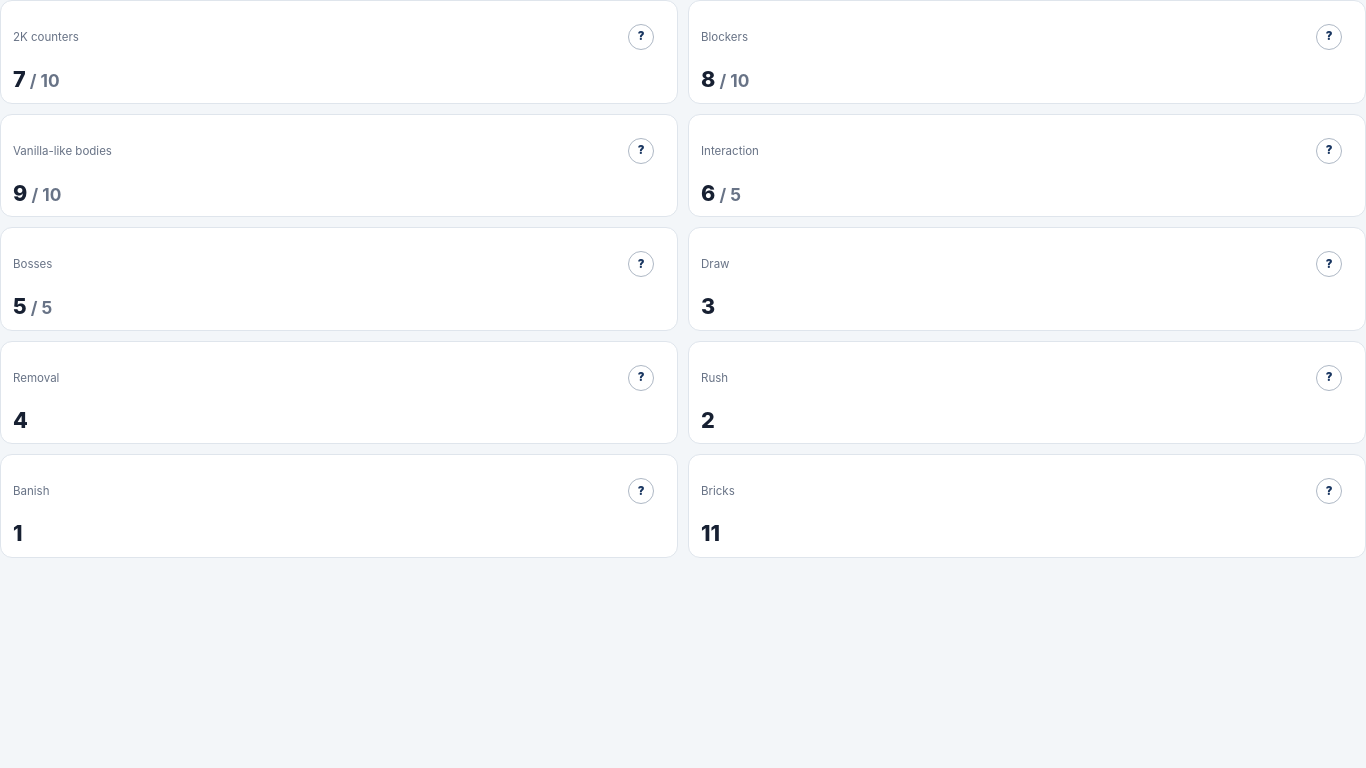
Test case: DeckRoleCoverage › shows the approved definition for 2K counters
Click the button named "What does 2K counters mean?" at (641, 37), box [617,13,665,61]
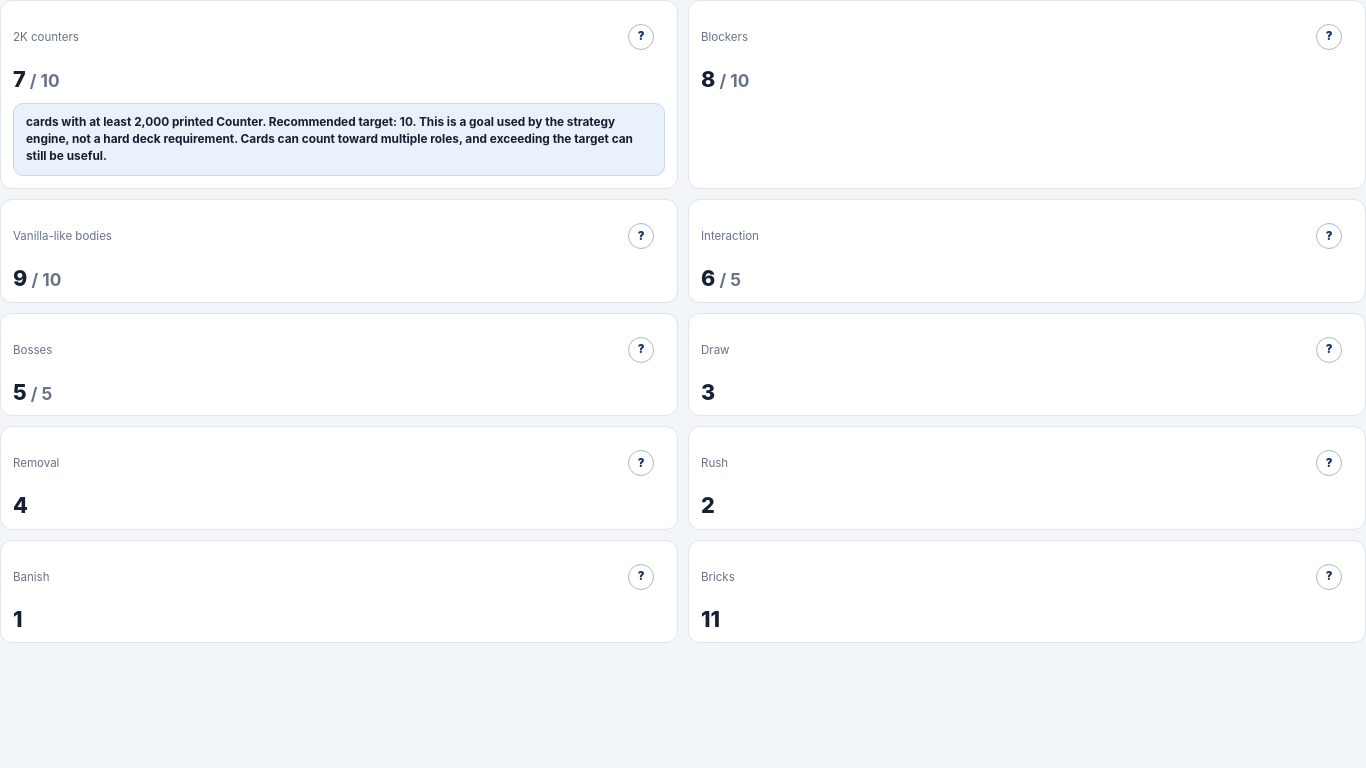
Expected: the tooltip shows "cards with at least 2,000 printed Counter.", [26,115,633,163]
